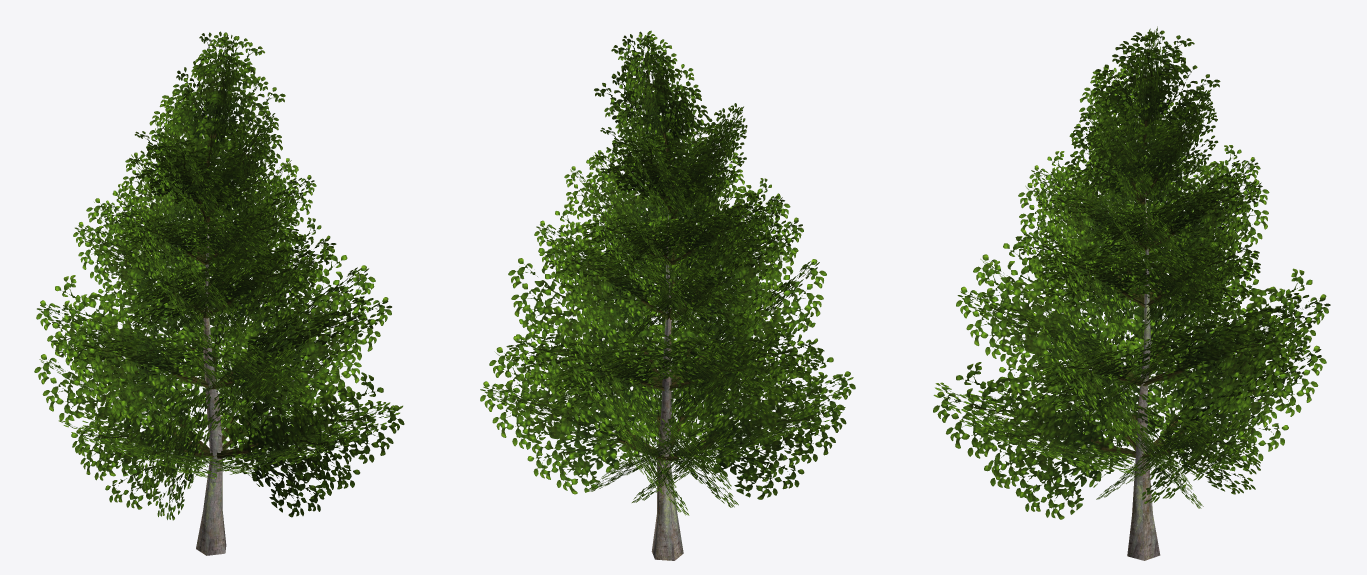
Rendered from tree_b.FBX.
The picture shows the model from 3 angles, left to right: view 1: azimuth 30°, elevation 25°; view 2: azimuth 150°, elevation 25°; view 3: azimuth 270°, elevation 25°; orthographic projection. The views are drawn at different scales.
Visible parts, largest first — view 1: tree_b; view 2: tree_b; view 3: tree_b.
Part boxes in pixels (bbox=[...]): tree_b: bbox=[34, 31, 404, 555]; tree_b: bbox=[480, 30, 855, 560]; tree_b: bbox=[933, 26, 1330, 560].
Bounding box in the file's own units: 9.84 × 13.9 × 10.21.
2 materials, 2 textured.
